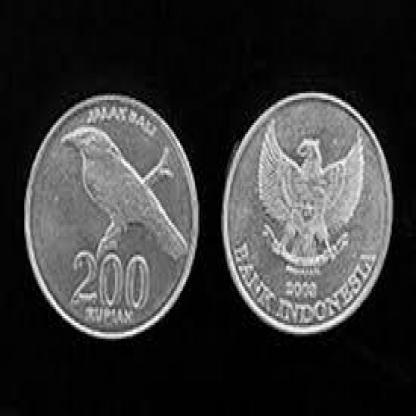coin_200_e2003: (24, 91, 203, 343), (223, 89, 395, 339)
